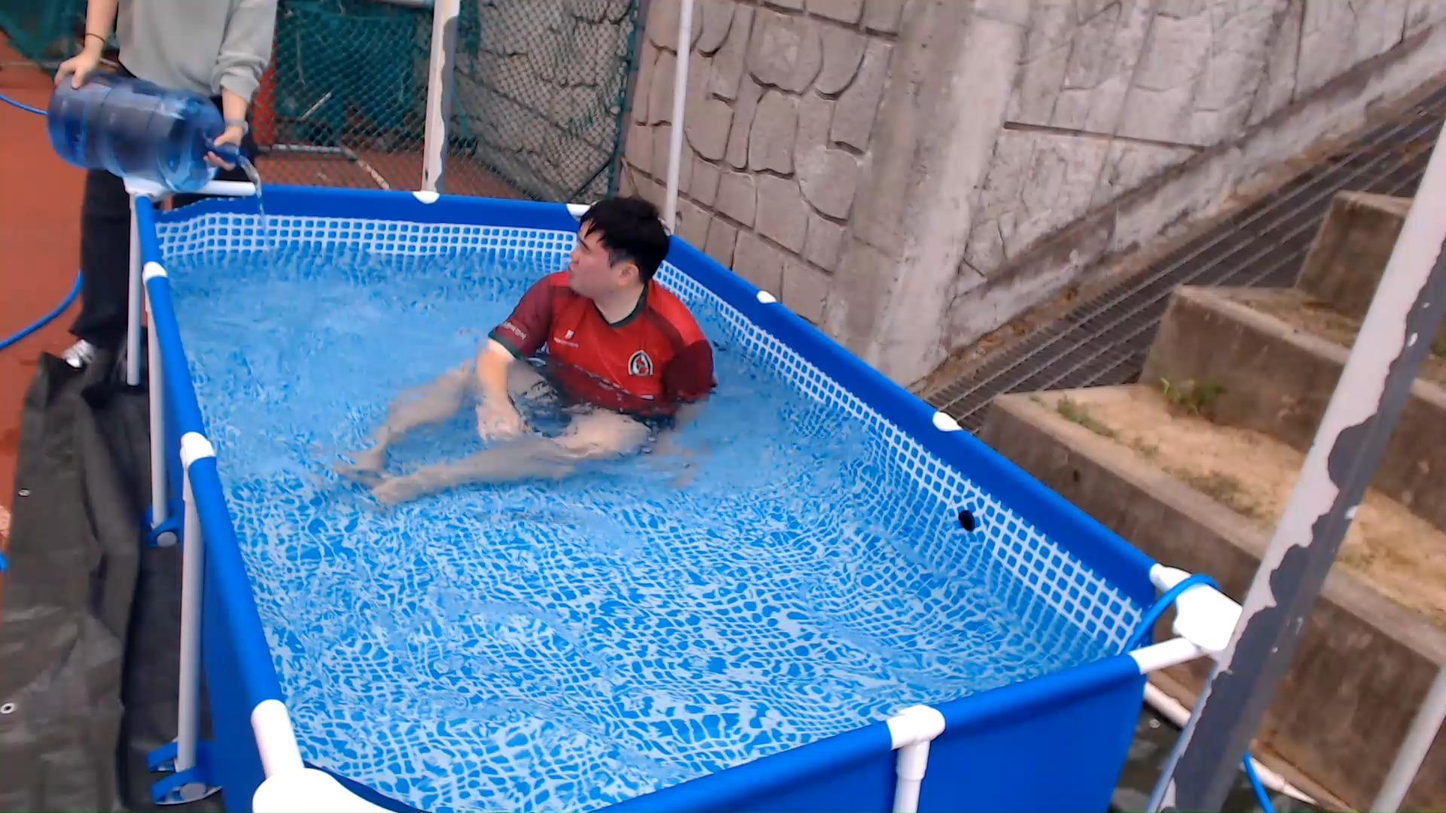Person-out-of-water: (61, 0, 247, 377)
Swimming: (318, 176, 762, 525)
